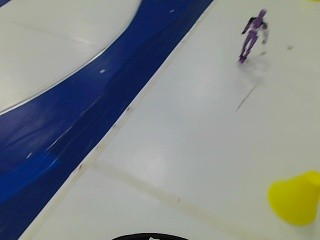cone: (267, 161, 318, 228)
pedestrian: (239, 6, 279, 67)
